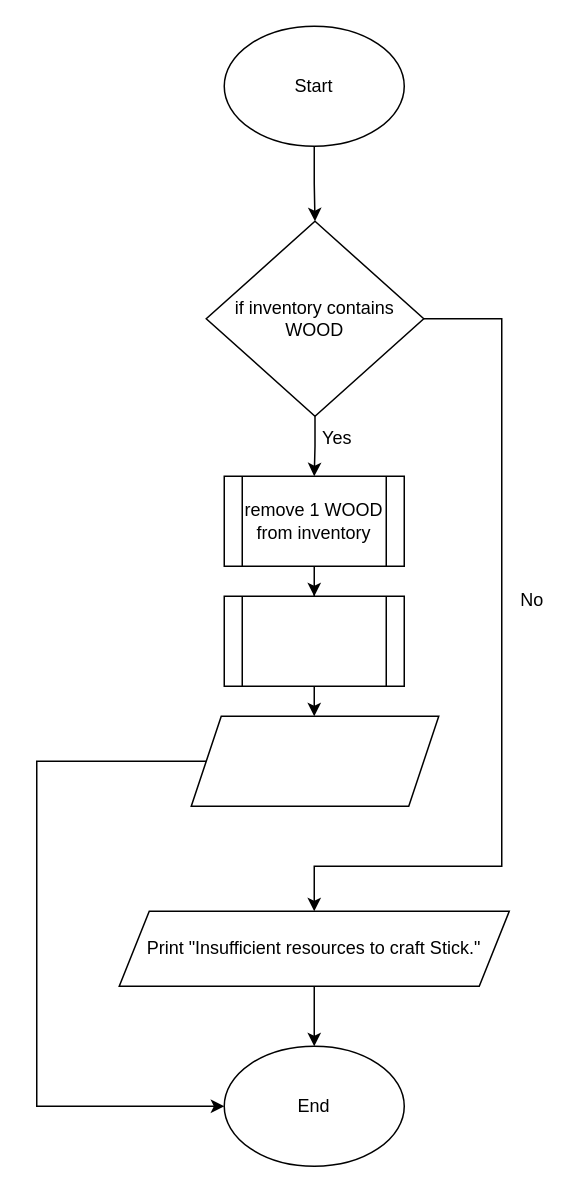
The diagram is 588 pixels wide and 1193 high, and some of its shapes have lost their labels. The centre of each missing label's shape, as x and y in pixels:
add crafted item to crafted items: (x=313, y=640)
Print "Crafted Stick.": (x=314, y=760)
